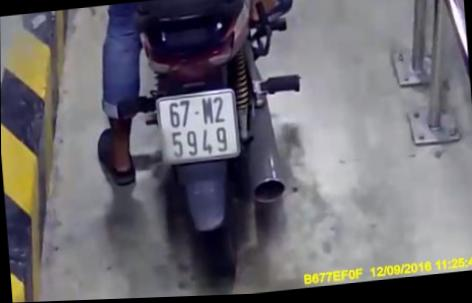LP: (151, 86, 242, 171)
